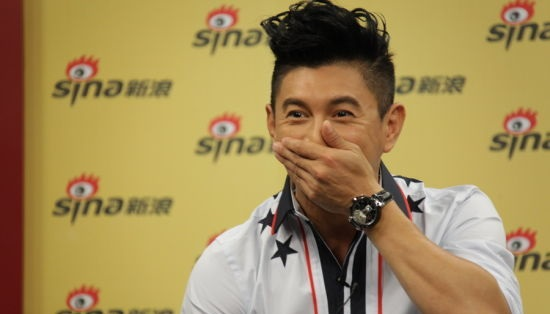face: (274, 66, 380, 194)
